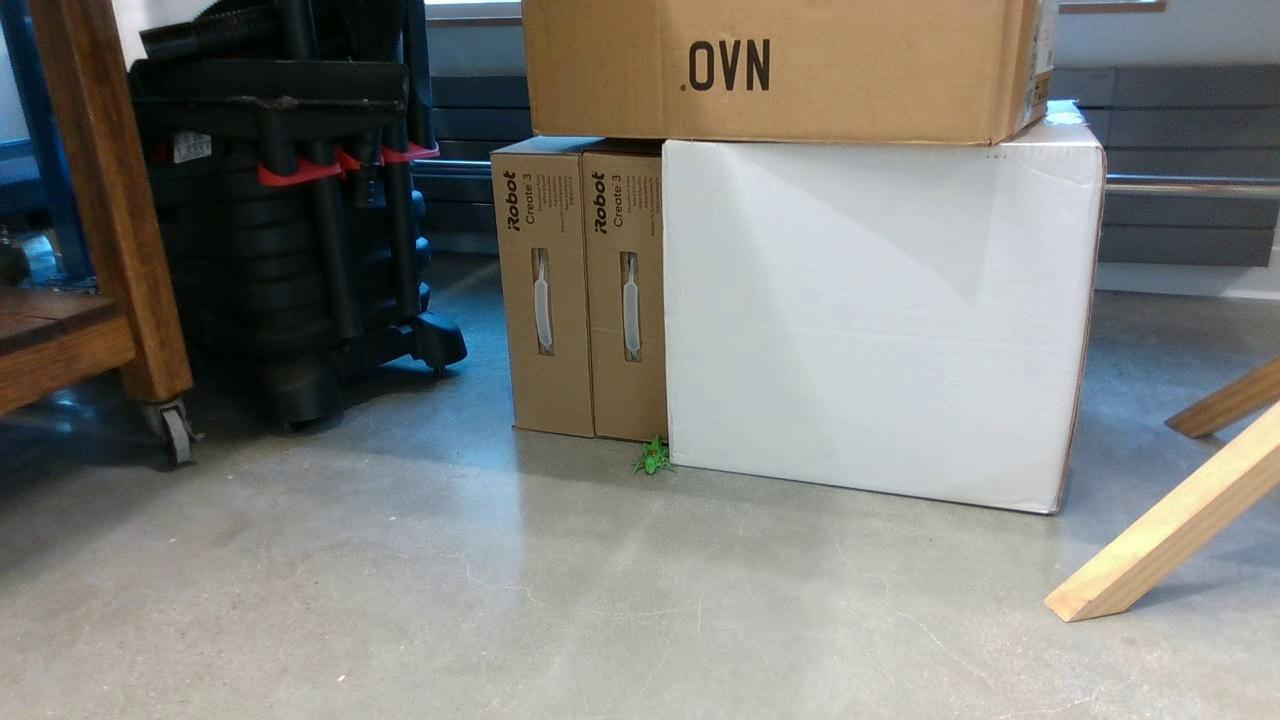grasshopper: (629, 429, 669, 484)
